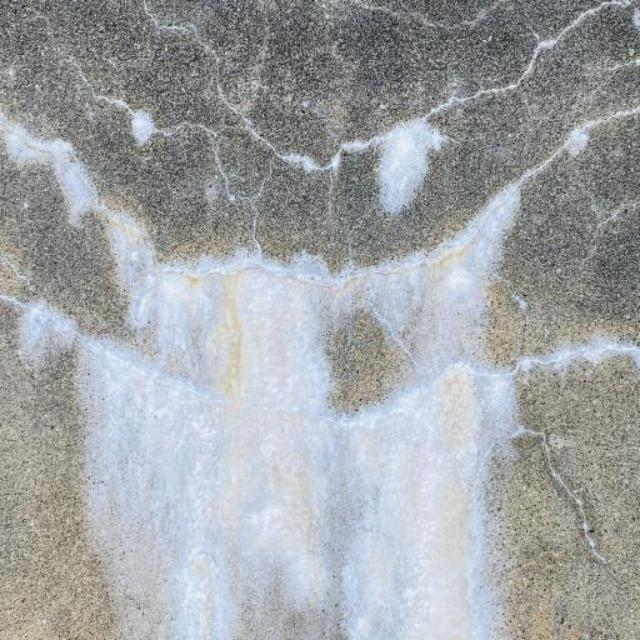D01: (0, 120, 601, 639)
